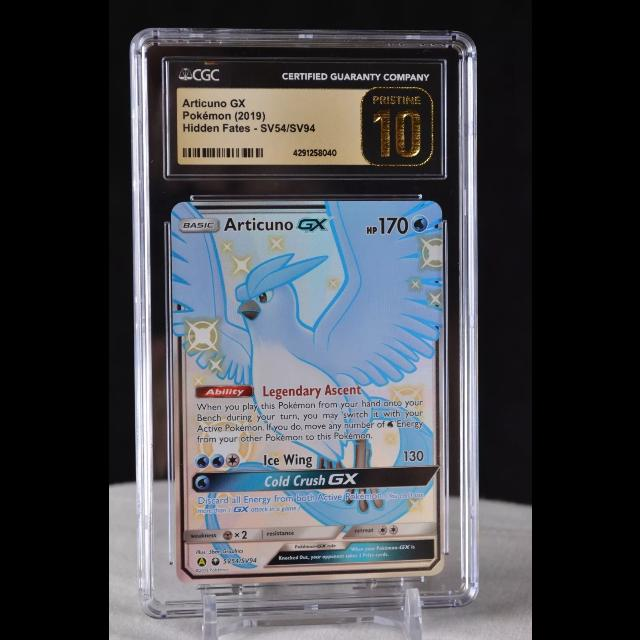card: (169, 201, 445, 586)
cgc_label: (165, 58, 442, 176)
cgc_slab: (129, 27, 480, 619)
